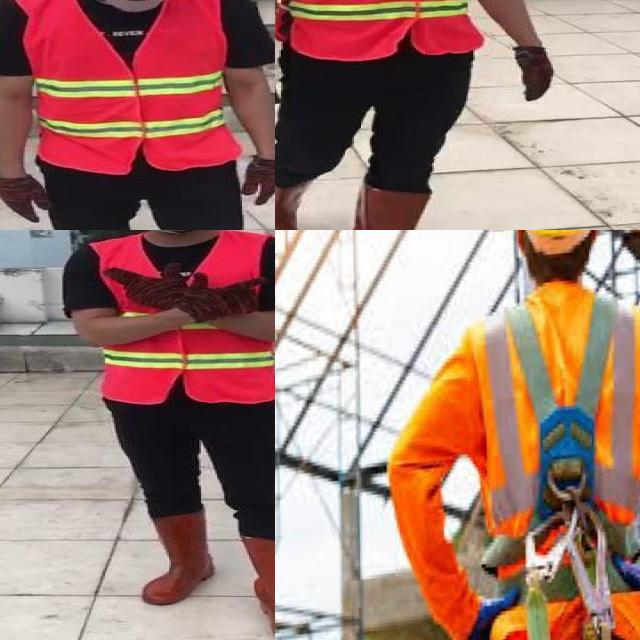Harness: (505, 296, 619, 640)
boots: (140, 513, 210, 607), (344, 183, 462, 230), (240, 534, 275, 640), (275, 174, 313, 230)
hand_glove: (101, 265, 185, 308), (187, 272, 261, 319), (0, 175, 51, 222), (514, 46, 556, 101), (240, 157, 275, 205)
person: (60, 230, 275, 640), (275, 0, 569, 230), (0, 0, 275, 230)
vest: (5, 0, 236, 171), (81, 233, 275, 404), (275, 0, 483, 54)
